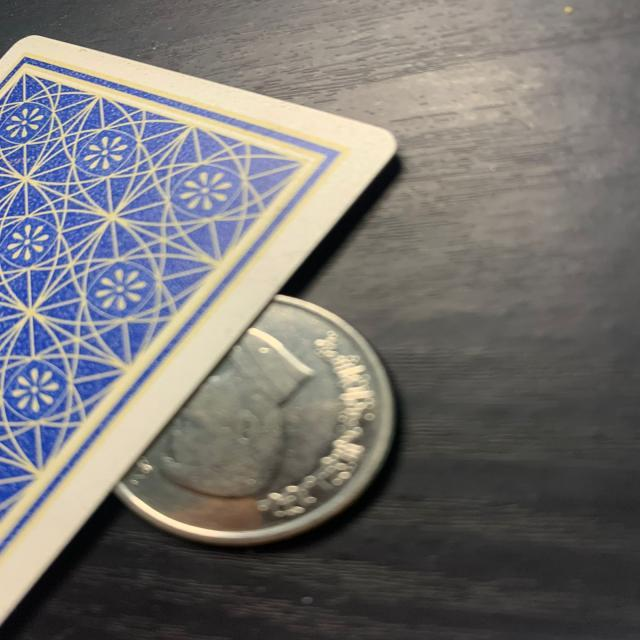10-coins: (111, 292, 400, 548)
